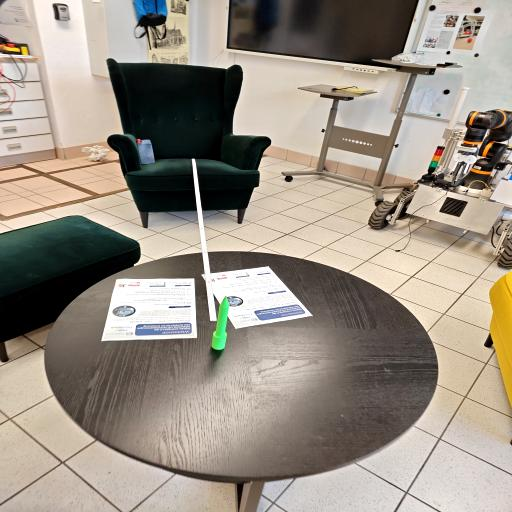Probe-Detection: (211, 296, 229, 350)
